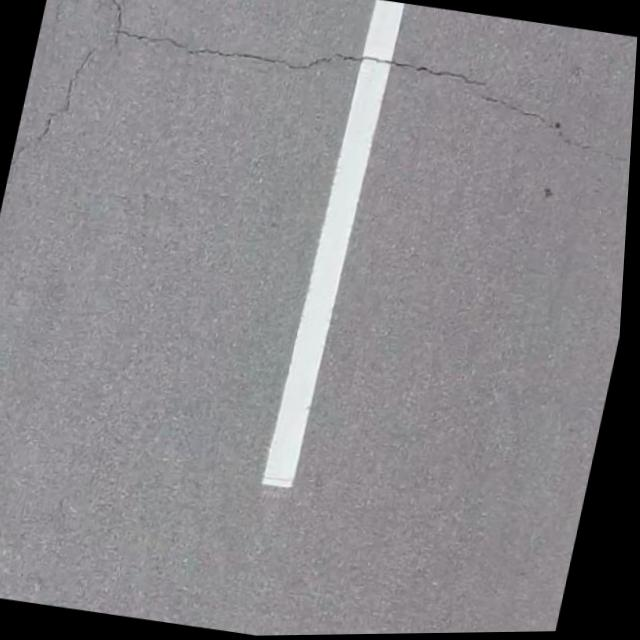Crack: (90, 4, 519, 127)
